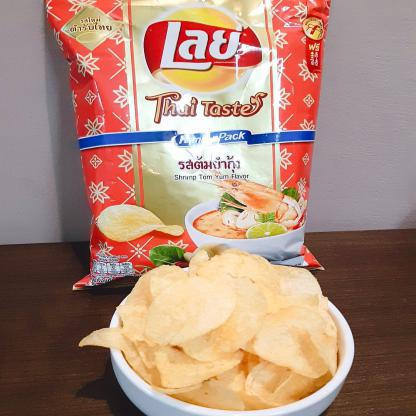potatochip: (47, 0, 332, 293)
